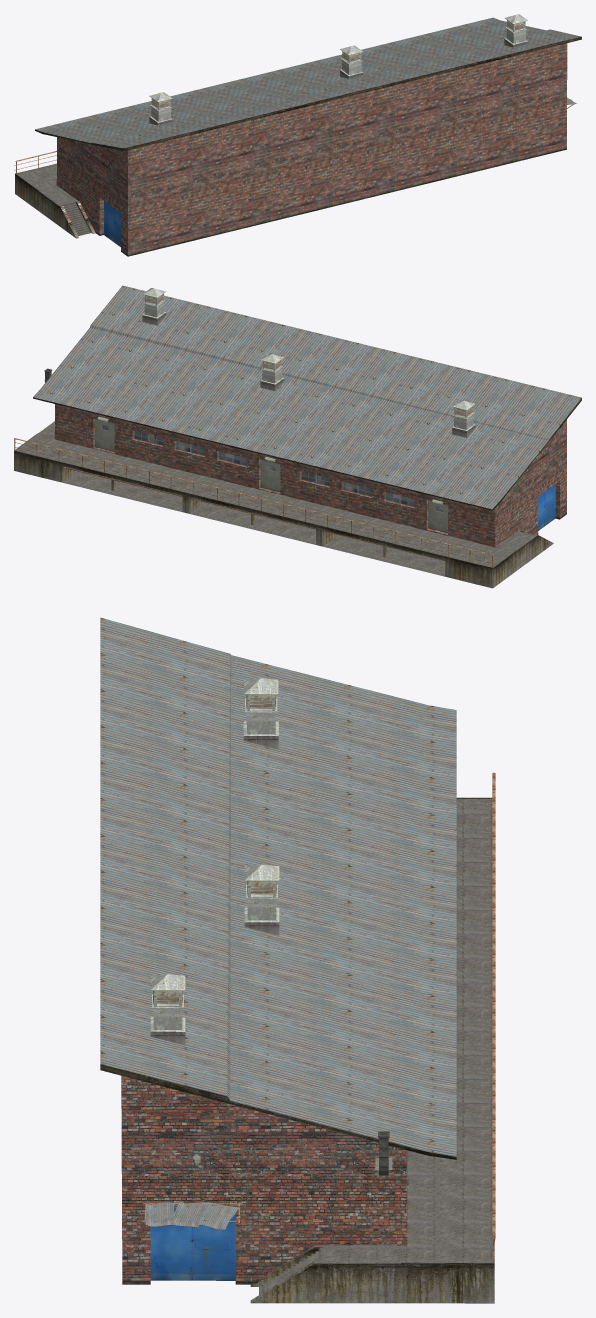
The model's file is building_10.DAE.
3 renders of one model, top to bottom at view 1: azimuth 30°, elevation 25°; view 2: azimuth 150°, elevation 25°; view 3: azimuth 270°, elevation 25°, orthographic. The views are drawn at different scales.
Parts seen in each view (by area): view 1: Mesh_Object; view 2: Mesh_Object; view 3: Mesh_Object.
Boxes of the visible parts, x1,y1,x2,y2 form: Mesh_Object: (14,14,581,256); Mesh_Object: (14,285,581,588); Mesh_Object: (100,617,495,1303).
Bounding box in the file's own units: 38.68 × 10.57 × 13.83.
